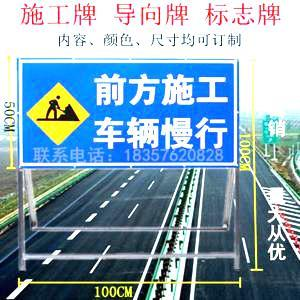sign: (19, 58, 238, 167)
